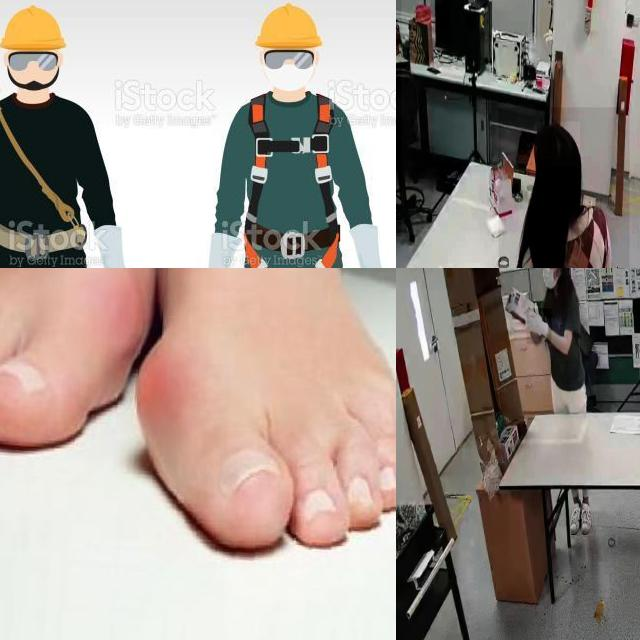Barefoots: (134, 268, 396, 549), (0, 268, 168, 448)
Harness: (245, 94, 343, 268)
face_mask: (542, 268, 559, 293)
hand_glove: (526, 308, 552, 344)
head_nohelmet: (534, 122, 580, 166)
person: (498, 107, 629, 268), (513, 268, 596, 417)
shoes: (580, 498, 594, 536), (567, 501, 582, 536)
